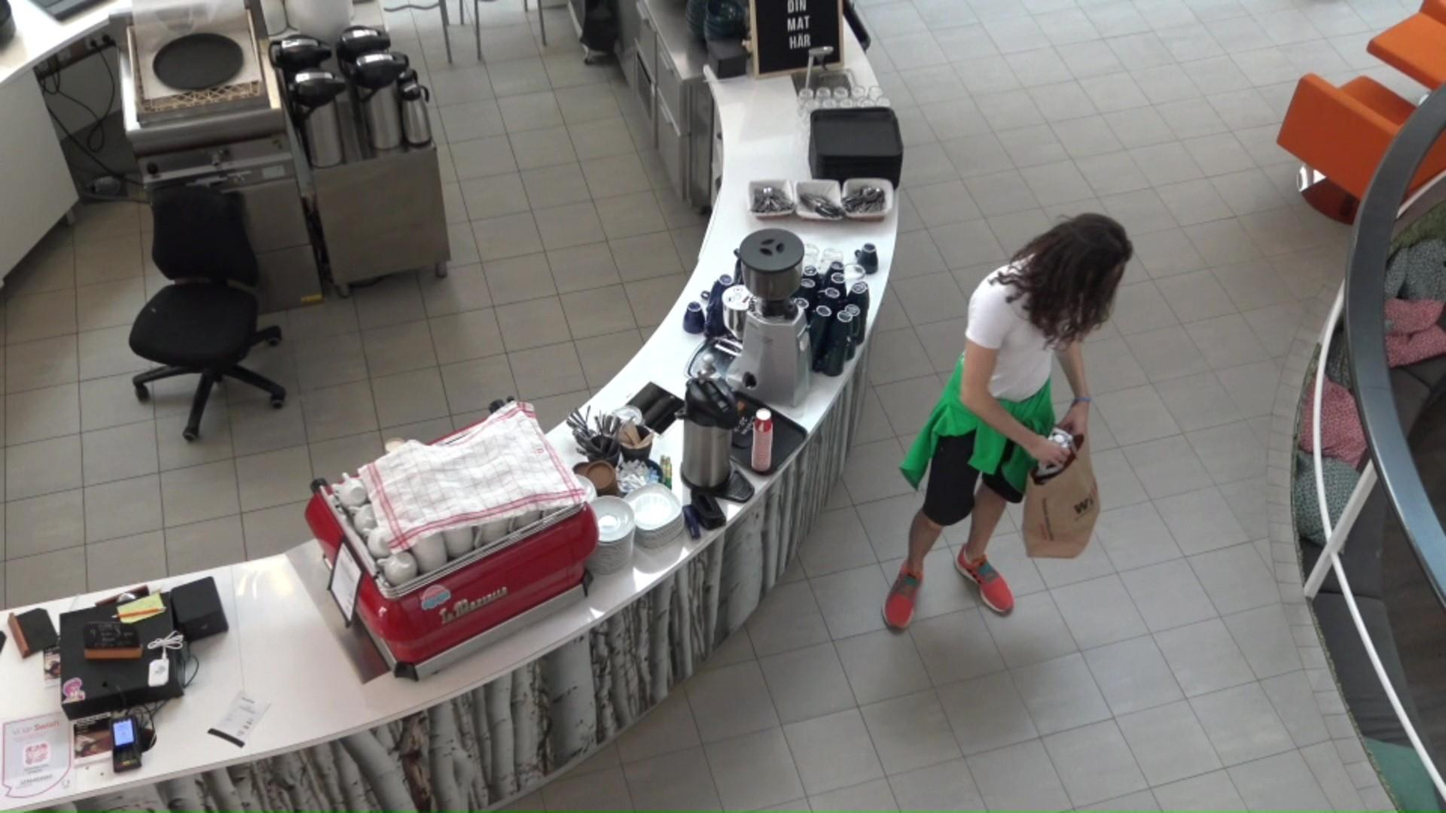shoplifting: (885, 211, 1134, 632)
